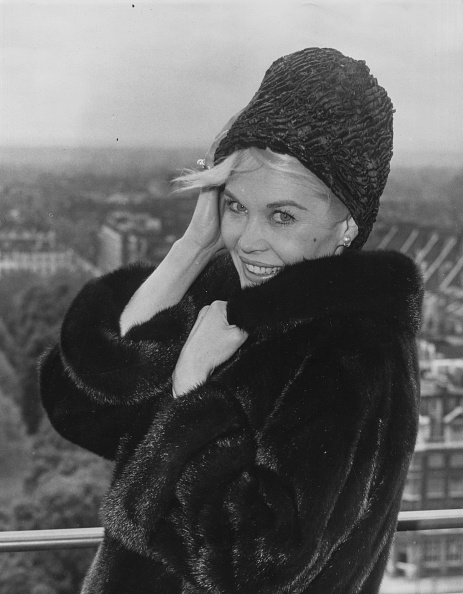em pe: (55, 112, 446, 594)
